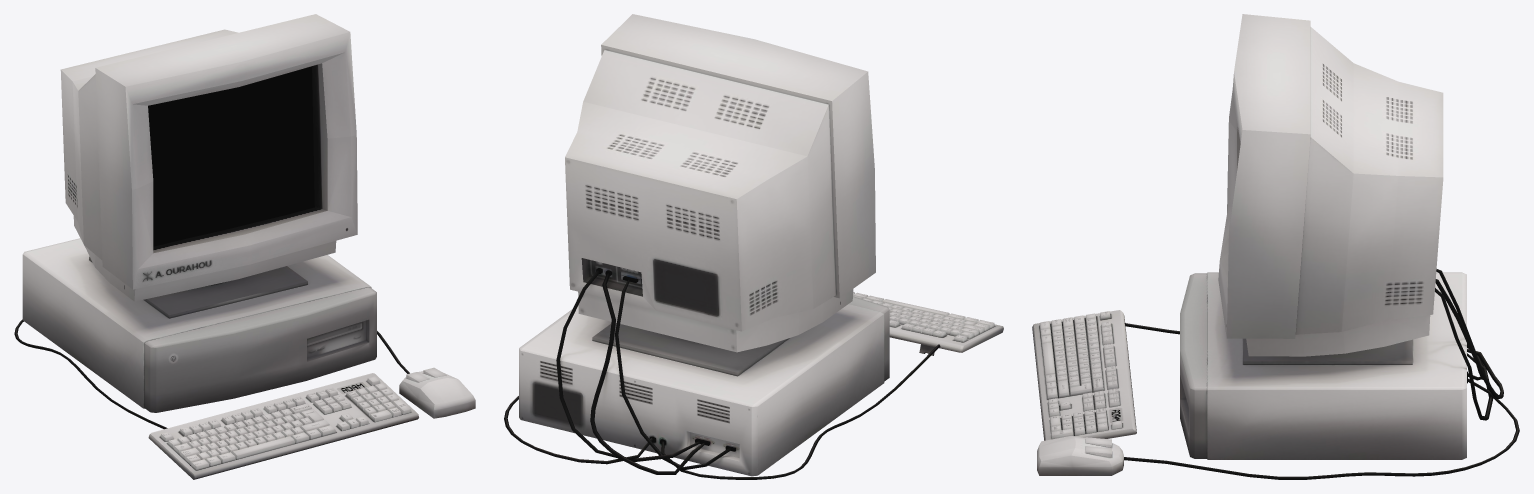
The model's file is computer_setup.glb.
The picture shows the model from 3 angles, left to right: view 1: azimuth 30°, elevation 25°; view 2: azimuth 150°, elevation 25°; view 3: azimuth 270°, elevation 25°; orthographic projection. The views are drawn at different scales.
Visible parts, largest first — view 1: mouse; view 2: mouse; view 3: mouse.
Part boxes in pixels (x1,y1,x2,y2): mouse: (14,14,475,479); mouse: (504,14,1003,479); mouse: (1032,14,1519,479).
Size of the model in its own units: 2.24 by 2.29 by 3.04.
Materials: 6 (5 with a texture image).
